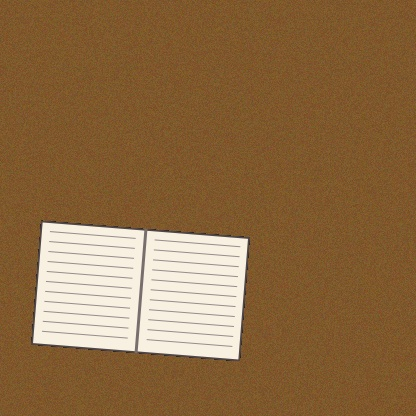book: (31, 220, 250, 361)
